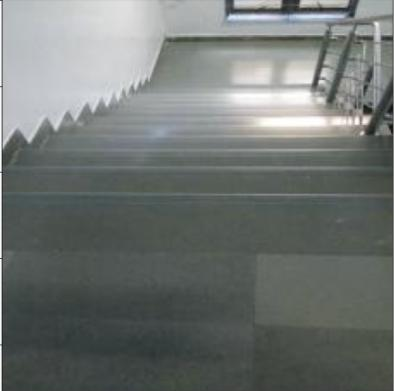Stair Down: (1, 84, 392, 205)
